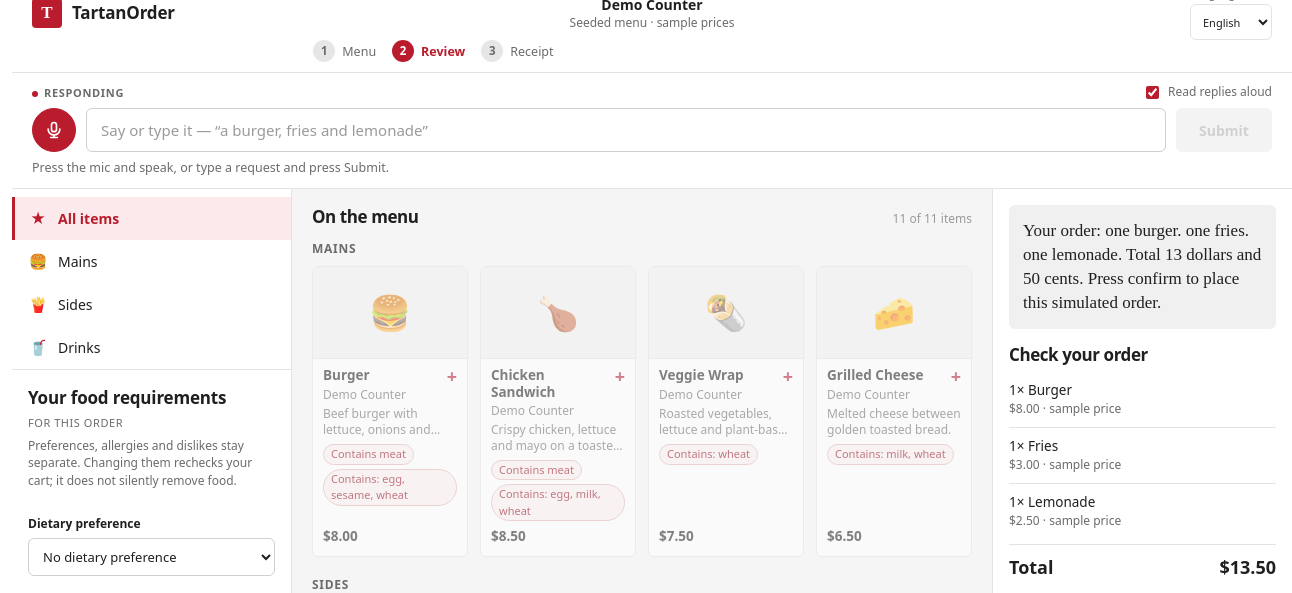
it: Kiosk (fake controller, mocked voice) › erasing a draft that was started during review releases capture (no stranded busy state)
This screenshot has width=1292, height=593.
Type "a" into the field with test id "text-input".
click(626, 130); type("a")  # box [86,108,1166,152]
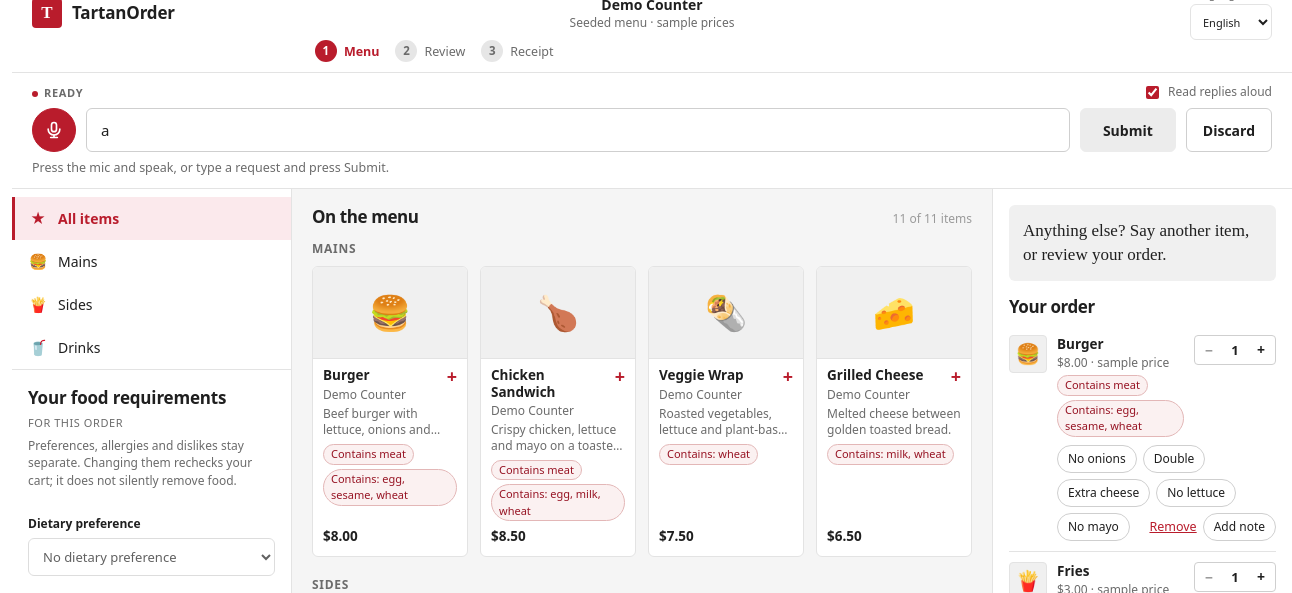
Check: the button with test id "discard" is shown, box [1186,108,1272,152]
Clear the field with test id "text-input" at (578, 130), box [86,108,1070,152]
(page scrolled)
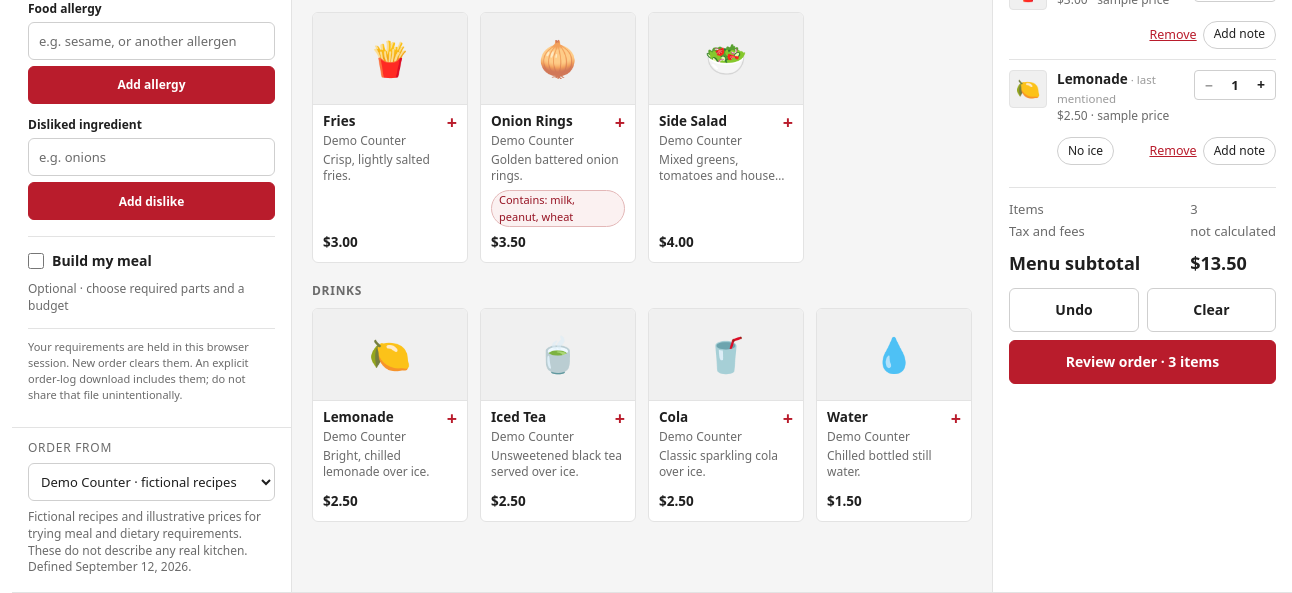
Check: the button with test id "review" is enabled, box [1009,340,1276,384]
